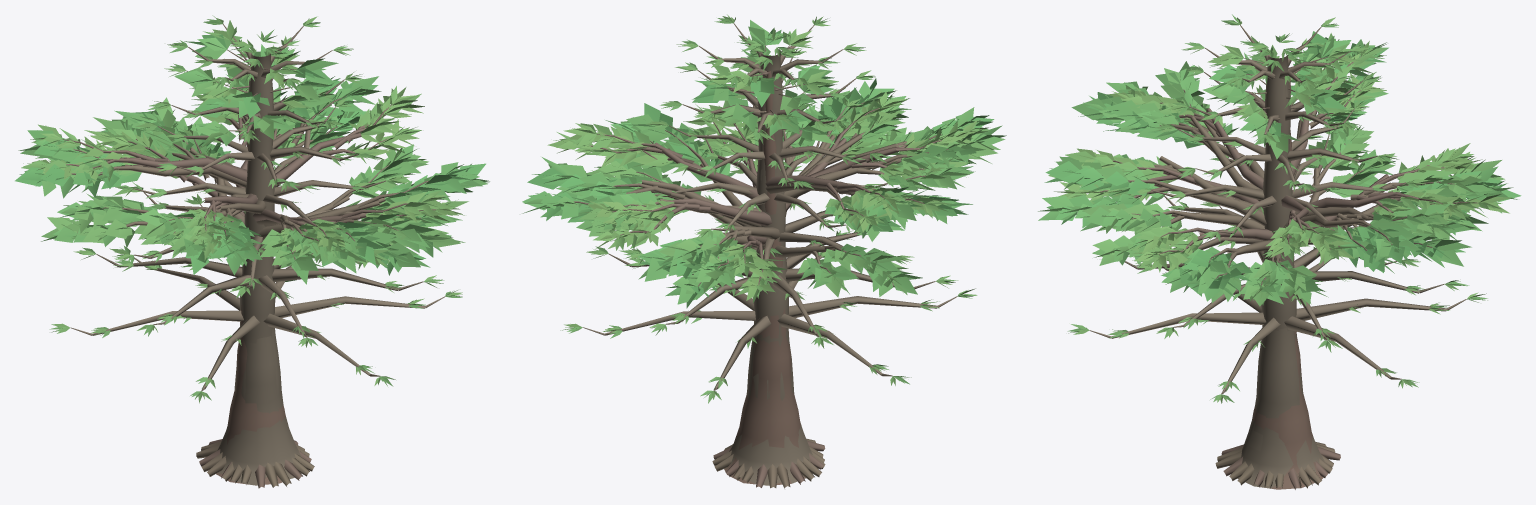
File: canopy-tree-library-original-v2.glb
The picture shows the model from 3 angles, left to right: view 1: azimuth 30°, elevation 25°; view 2: azimuth 150°, elevation 25°; view 3: azimuth 270°, elevation 25°; orthographic projection.
Parts seen in each view (by area): view 1: canopy-tree-attached-leaves (×4), canopy-tree-load-bearing-structure (×4); view 2: canopy-tree-attached-leaves (×4), canopy-tree-load-bearing-structure (×4); view 3: canopy-tree-attached-leaves (×4), canopy-tree-load-bearing-structure (×4).
Boxes of the visible parts, x1,y1,x2,y2 form: canopy-tree-attached-leaves (×4): [15, 15, 489, 403]; canopy-tree-load-bearing-structure (×4): [62, 24, 444, 488]; canopy-tree-attached-leaves (×4): [522, 14, 1006, 403]; canopy-tree-load-bearing-structure (×4): [573, 23, 957, 488]; canopy-tree-attached-leaves (×4): [1038, 14, 1521, 403]; canopy-tree-load-bearing-structure (×4): [1089, 25, 1477, 489].
Bounding box in the file's own units: 7.56 × 7.35 × 7.54.
